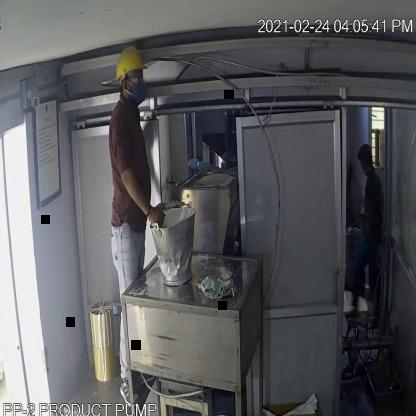helmet: (114, 36, 147, 89)
